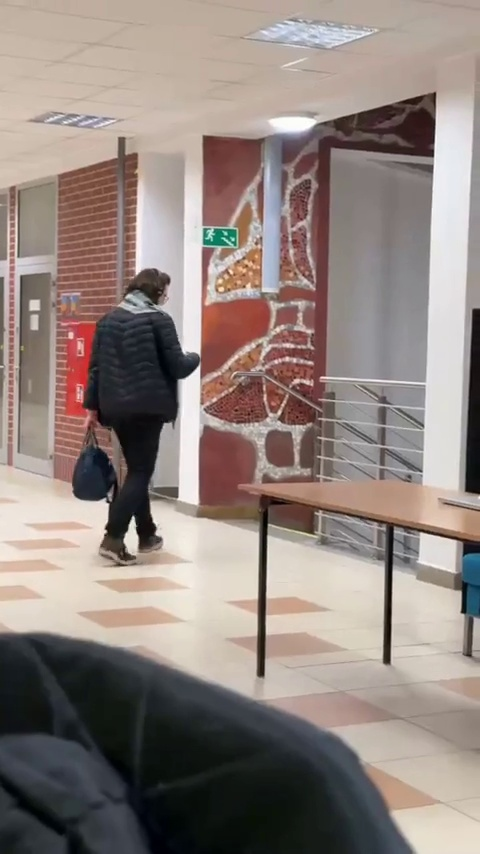no vest: (75, 262, 202, 557)
